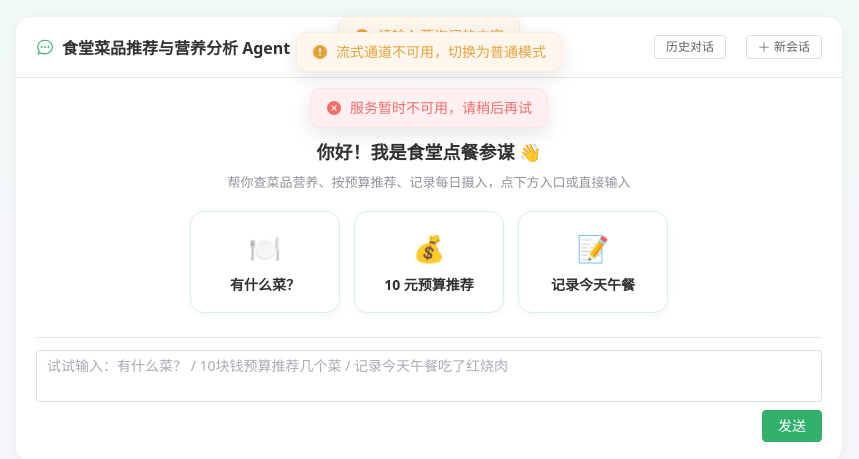
Test: ChatView › 新会话清空消息与 session
Type "hi" into the text box with placeholder "试试输入：有什么菜？ / 10块钱预算推荐几个菜 / 记录今天午餐吃了红烧肉" at (429, 376), box 36,350 -> 822,402
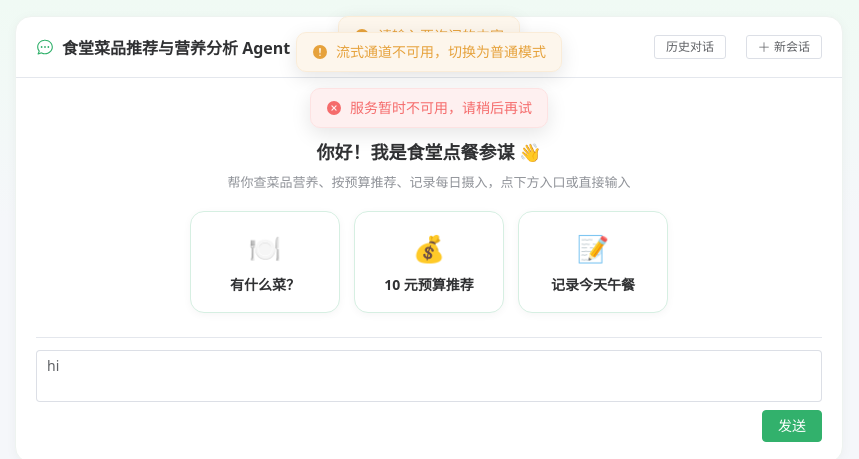
Click the button "发送" at (792, 426), box 762,410 -> 822,442
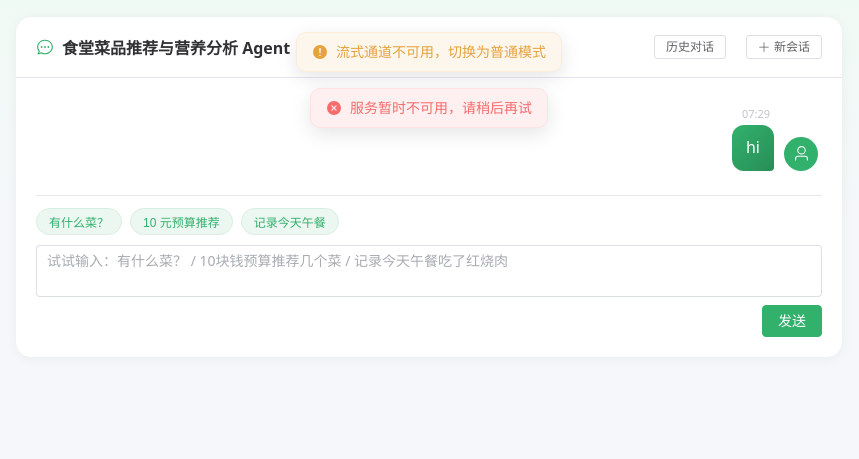
Click the button "新会话" at (784, 47), box 746,35 -> 822,59
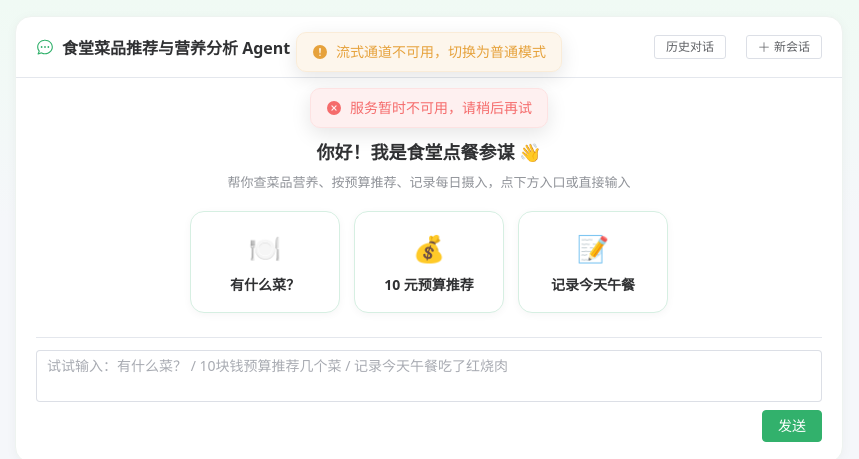
Check: no elements with class "chat-bubble" are shown
